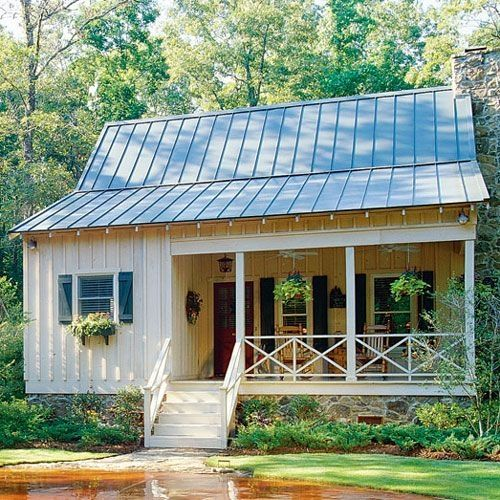Tin-shade House: (28, 78, 486, 386)
